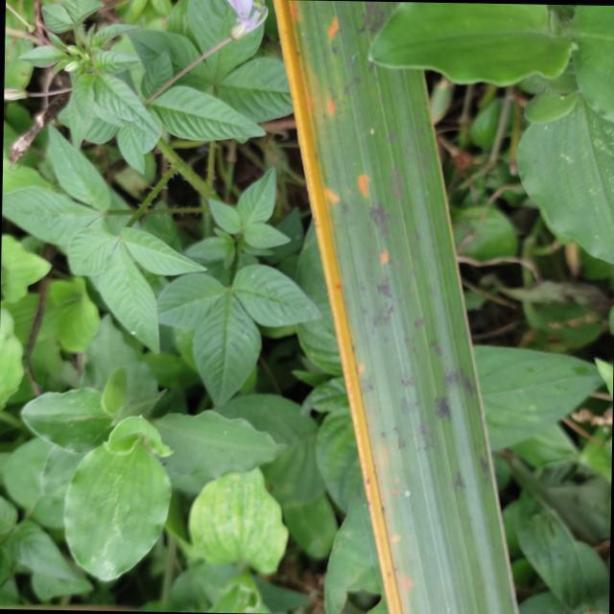Megnesium: (269, 0, 521, 614)
